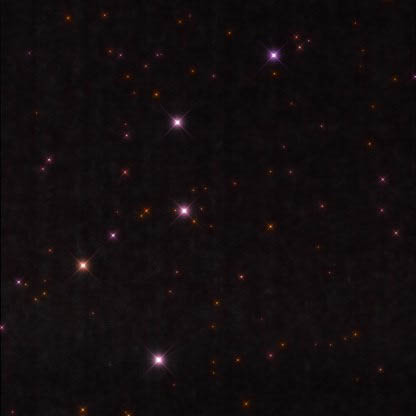Cassiopeia: (65, 225, 125, 277), (170, 191, 208, 229), (256, 41, 290, 75), (158, 108, 191, 137), (146, 344, 172, 375)
